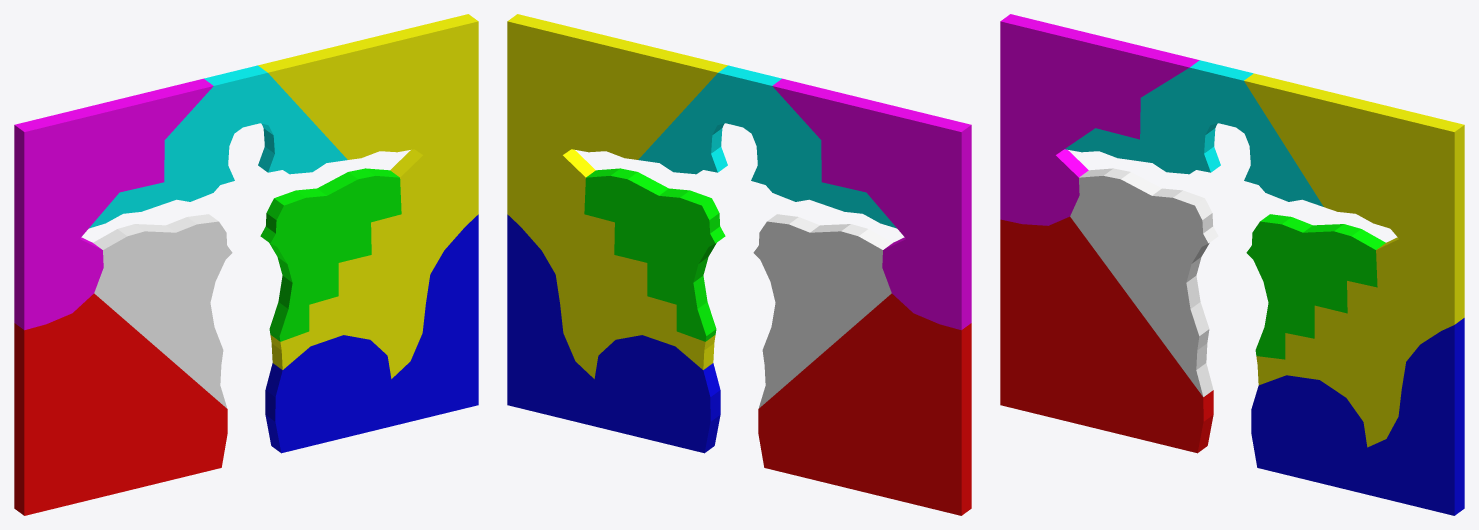
Rendered from SNUH_Wall.fbx.
3 views of the same model, side by side, from view 1: azimuth 30°, elevation 25°; view 2: azimuth 150°, elevation 25°; view 3: azimuth 330°, elevation 25° (orthographic).
Parts seen in each view (by area): view 1: Wall, Wall.004, Wall.005, Wall.003, Wall.006, Wall.002, Wall.001; view 2: Wall, Wall.004, Wall.005, Wall.003, Wall.006, Wall.002, Wall.001; view 3: Wall, Wall.004, Wall.003, Wall.005, Wall.006, Wall.002, Wall.001.
Boxes of the visible parts, x1,y1,x2,y2 form: Wall: (258, 14, 478, 378); Wall.004: (14, 293, 227, 515); Wall.005: (14, 78, 213, 330); Wall.003: (265, 214, 478, 453); Wall.006: (93, 214, 232, 408); Wall.002: (89, 65, 347, 228); Wall.001: (260, 168, 401, 341); Wall: (507, 14, 727, 378); Wall.004: (758, 293, 971, 515); Wall.005: (772, 78, 971, 330); Wall.003: (507, 214, 720, 453); Wall.006: (753, 214, 892, 408); Wall.002: (638, 65, 896, 228); Wall.001: (584, 168, 725, 341); Wall: (1244, 73, 1464, 447); Wall.004: (1000, 216, 1213, 453); Wall.003: (1251, 318, 1464, 515); Wall.005: (1000, 14, 1199, 225); Wall.006: (1070, 168, 1218, 396); Wall.002: (1065, 60, 1323, 206); Wall.001: (1246, 214, 1385, 359).
Size of the model in its own units: 260 by 210 by 10.
